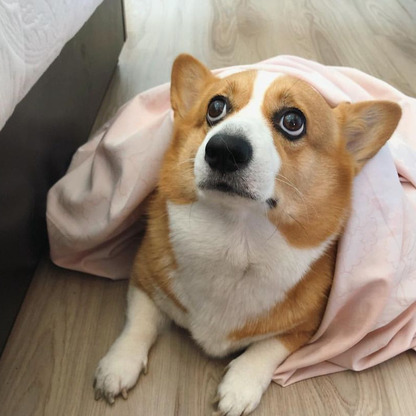Corgi: (135, 44, 399, 394)
